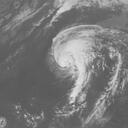cyclone: (51, 24, 122, 87)
